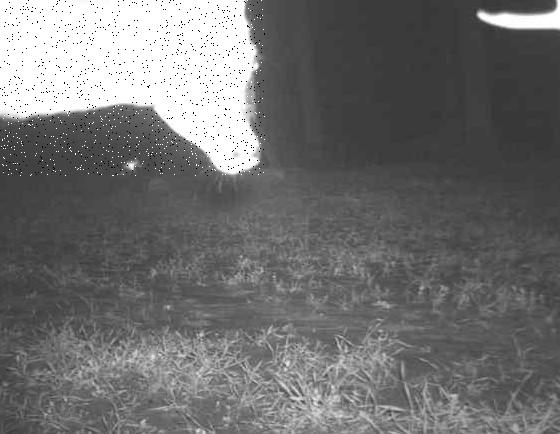Deer: (0, 0, 265, 176)
